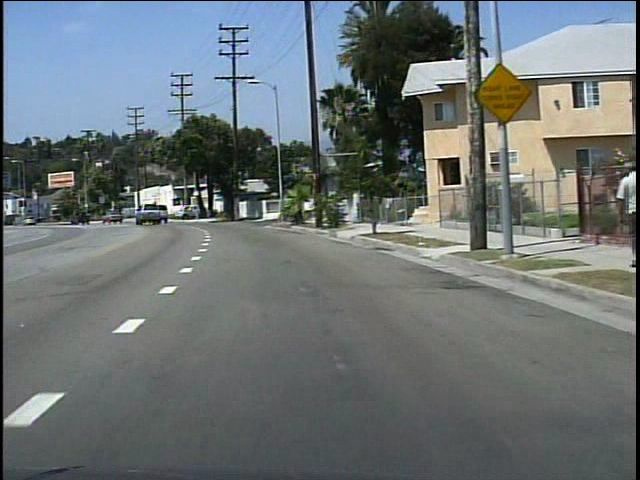person: (606, 157, 637, 270)
